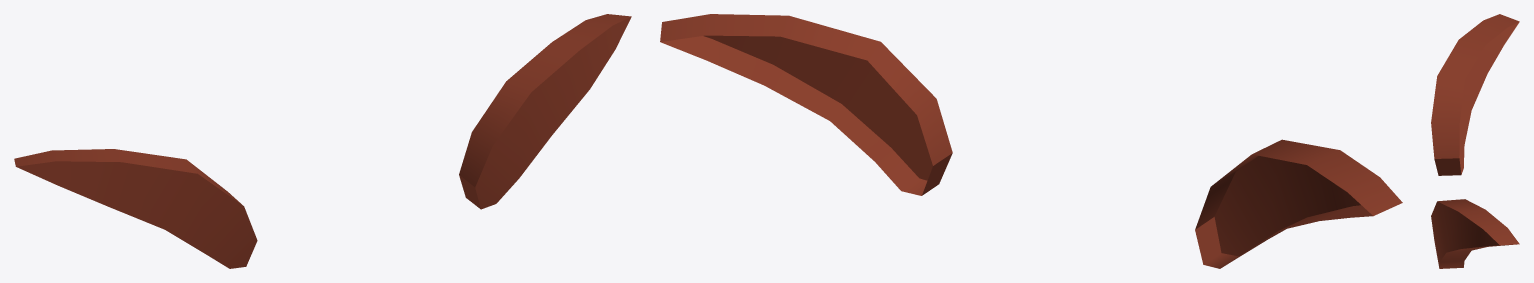
Rendered from Brow_Brown_2.fbx.
3 renders of one model, left to right at view 1: azimuth 30°, elevation 25°; view 2: azimuth 150°, elevation 25°; view 3: azimuth 270°, elevation 25°, orthographic. The views are drawn at different scales.
Visible parts, largest first — view 1: Brow_Brown_2; view 2: Brow_Brown_2; view 3: Brow_Brown_2.
Boxes of the visible parts, x1,y1,x2,y2 form: Brow_Brown_2: (14, 14, 631, 268); Brow_Brown_2: (660, 14, 1402, 268); Brow_Brown_2: (1431, 14, 1519, 268).
Bounding box in the file's own units: 27.94 × 5.35 × 4.54.
